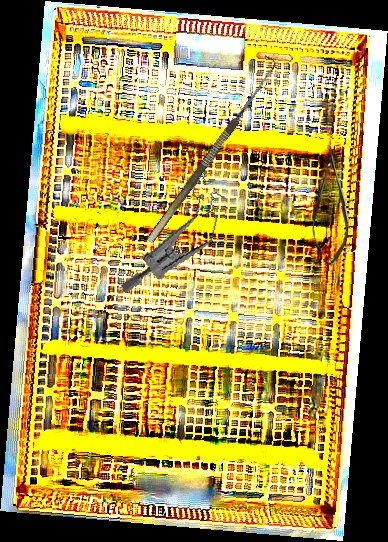Hook Surgical: (136, 54, 282, 244)
Micro Scissor: (310, 146, 351, 266)
Speculum: (119, 156, 231, 311)
